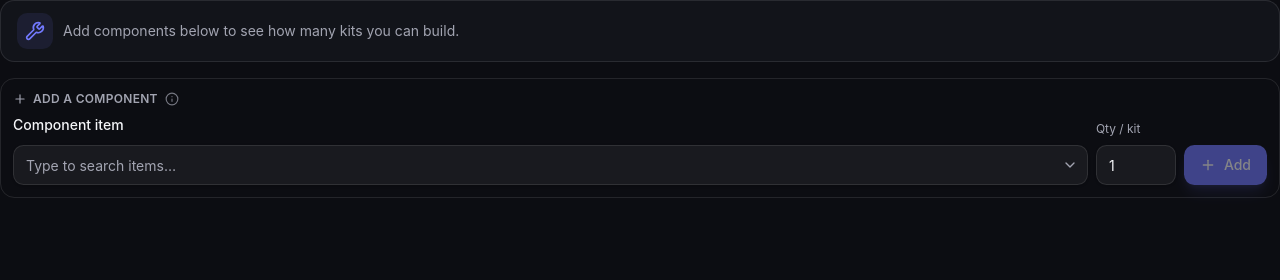
Test: KitEditor — add a component › assembles the exact add payload from the picker + qty, and resets on success
Check: the button with test id "add-kit-component" is disabled, box [1184, 145, 1267, 185]
Click the dropdown labelled "Component item" at point(550, 165), box [13, 145, 1088, 185]
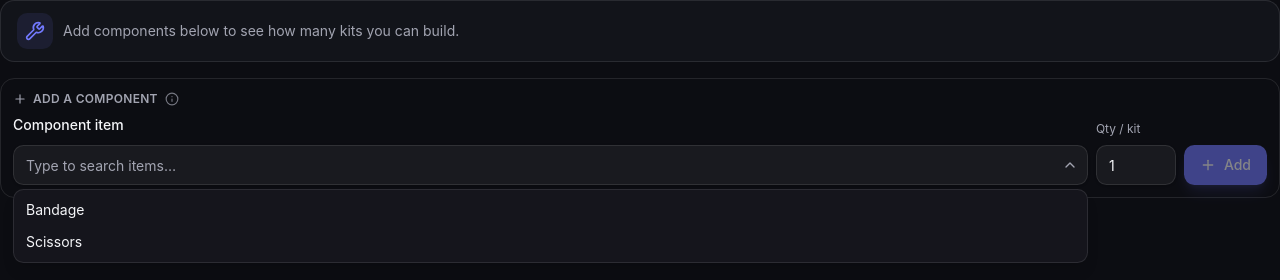
Press the mouse on the option "Scissors" at point(54, 242), box [26, 233, 82, 250]
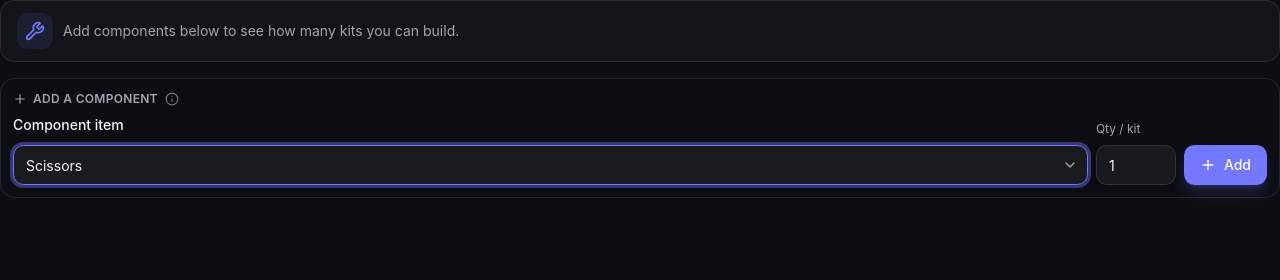
Replace the text in the number field with test id "kit-qty" with "3" at point(1136, 165), box [1096, 145, 1176, 185]
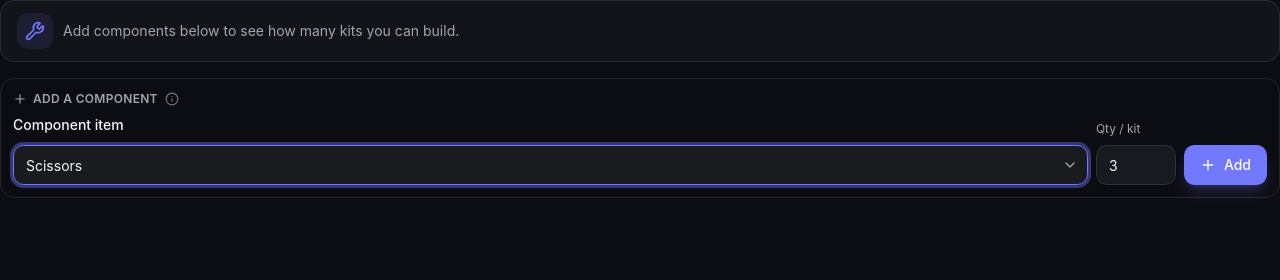
Click the button with test id "add-kit-component" at point(1225, 165), box [1184, 145, 1267, 185]
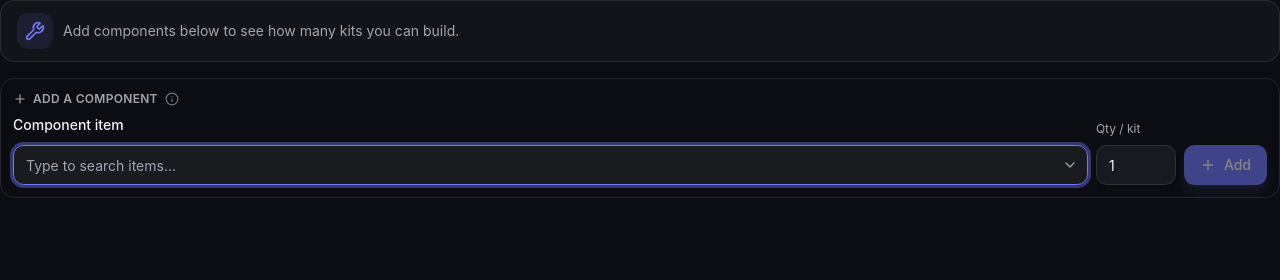
Check: the number field with test id "kit-qty" holds "1", box [1096, 145, 1176, 185]
